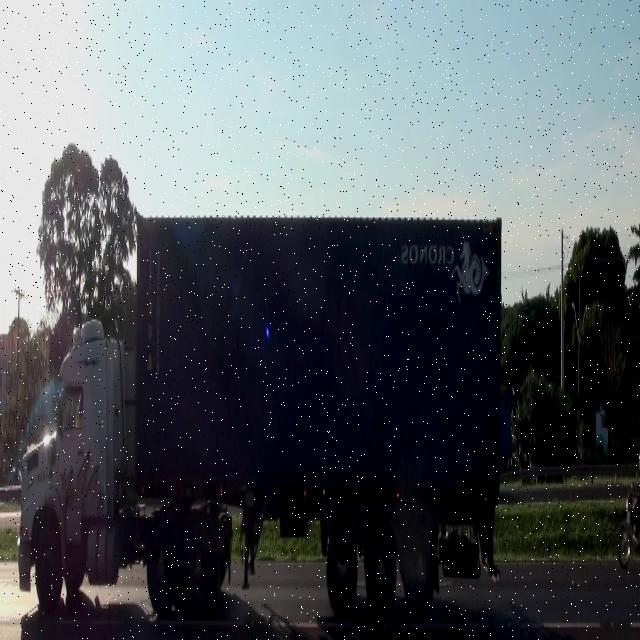-axle: (362, 512, 398, 617), (400, 515, 436, 614), (324, 516, 358, 616), (145, 521, 179, 613), (182, 518, 211, 613), (34, 528, 63, 613)
